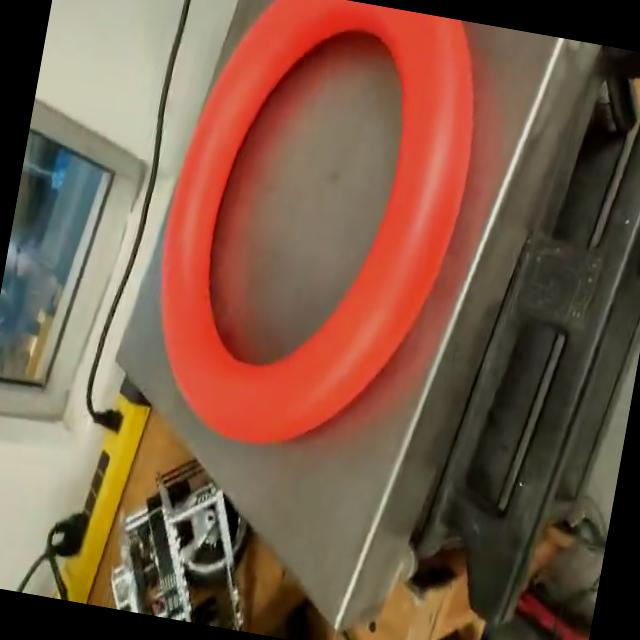note: (125, 0, 495, 475)
